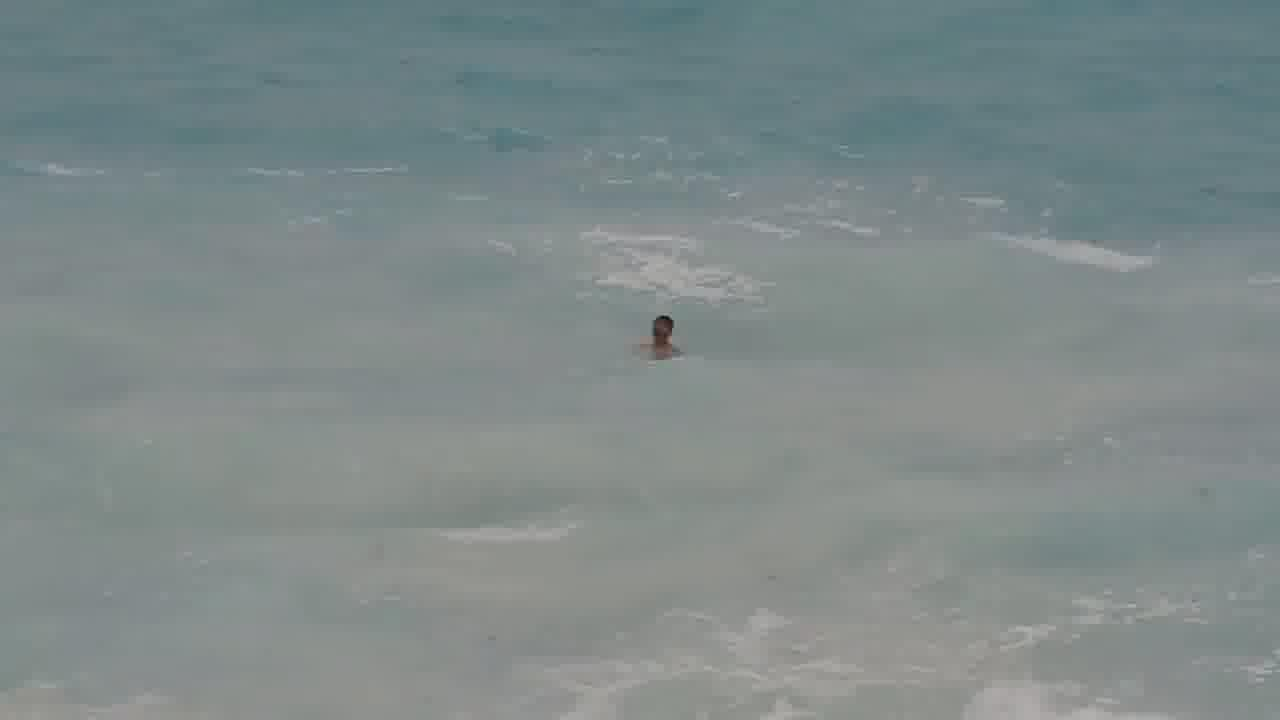human: (640, 307, 677, 361)
